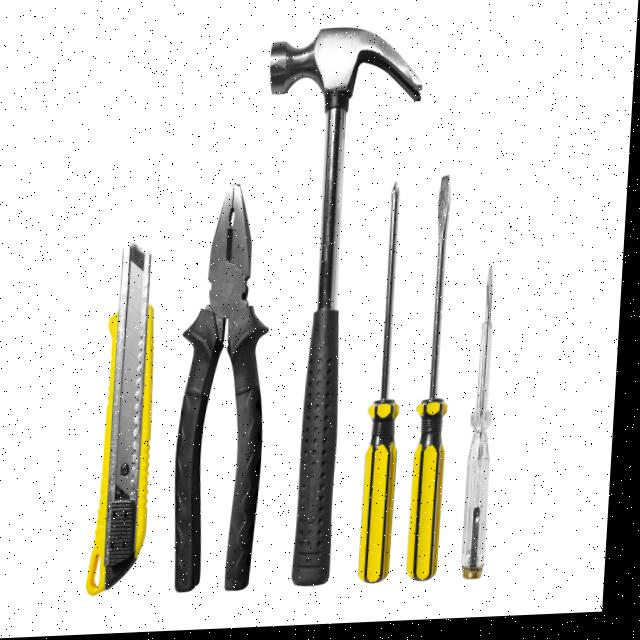Screwdriver: (414, 181, 453, 586), (366, 186, 404, 588), (469, 273, 497, 584)
